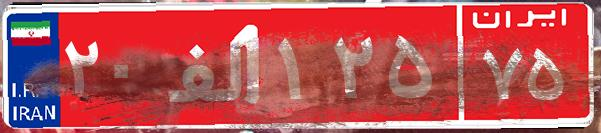0: (110, 28, 158, 105)
1: (273, 28, 330, 110)
2: (330, 28, 385, 110), (57, 26, 110, 107)
5: (385, 28, 445, 110), (525, 38, 570, 115)
7: (475, 38, 525, 113)
الف: (158, 15, 273, 115)
